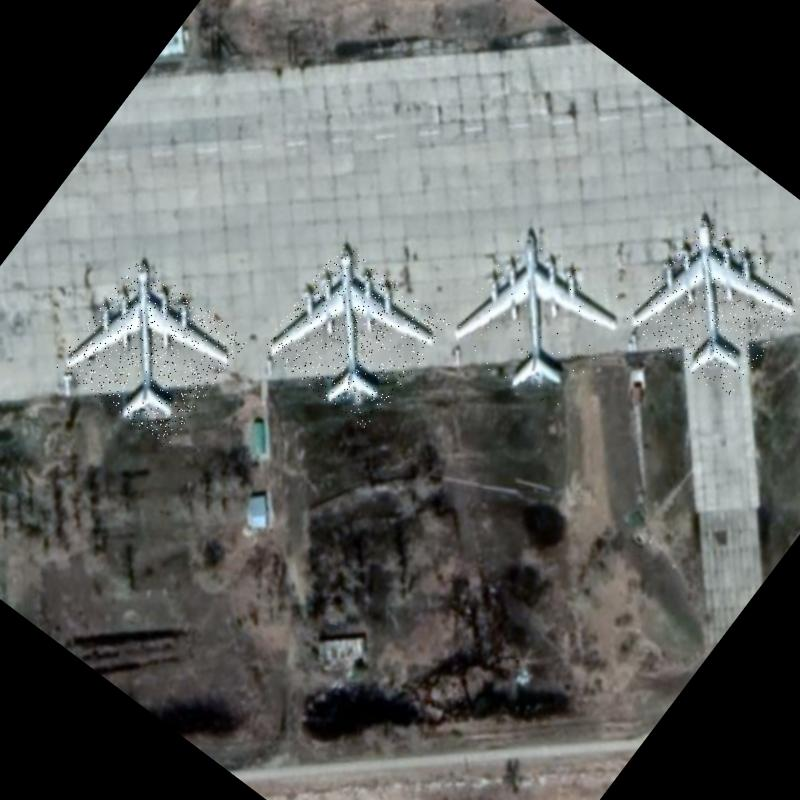A17: (54, 257, 248, 451), (443, 226, 635, 419), (259, 242, 450, 433), (621, 214, 800, 401)
